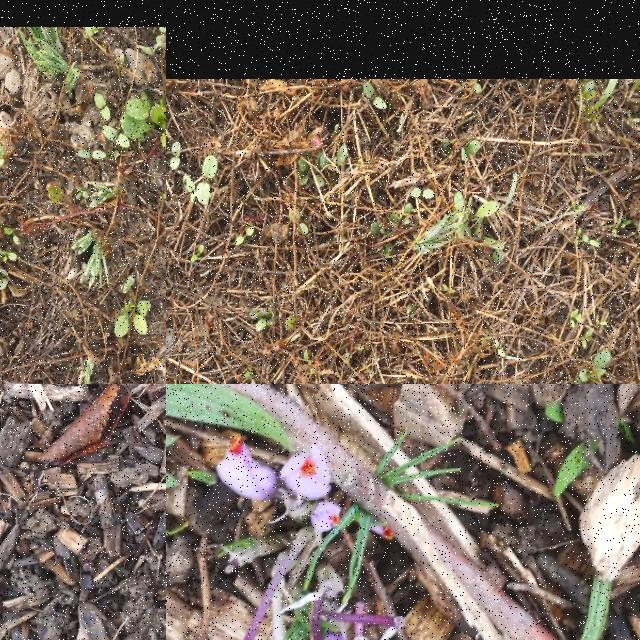flower: (216, 433, 278, 501), (280, 445, 332, 501), (310, 501, 342, 534), (370, 523, 396, 539)
